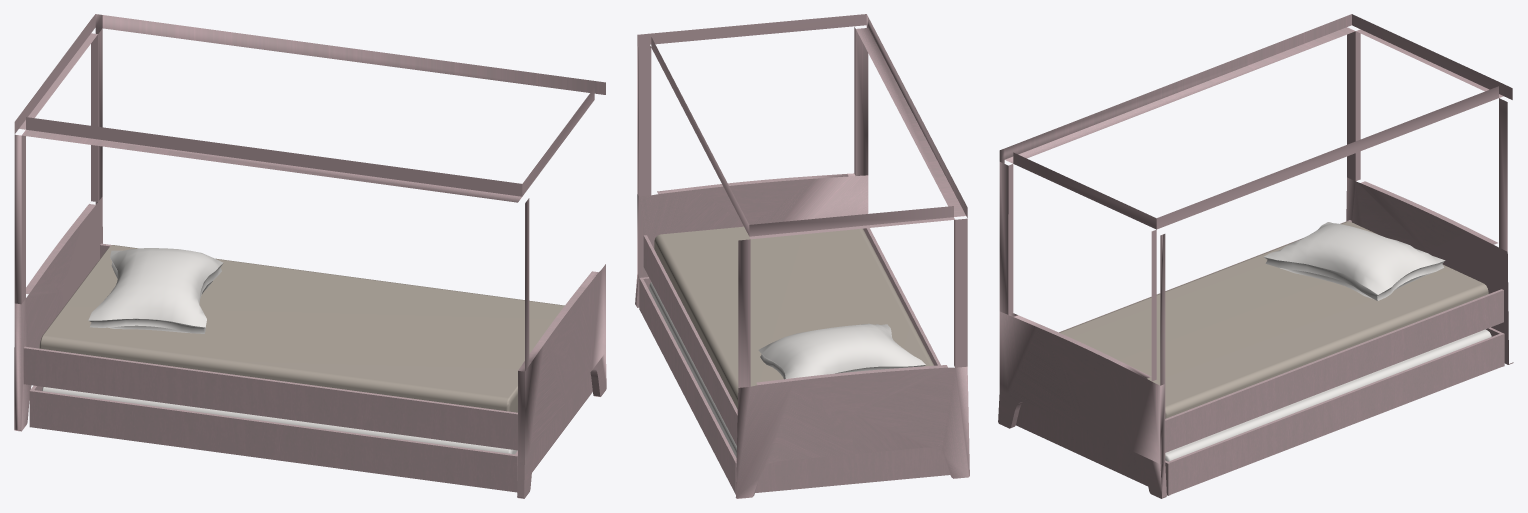
The model's file is vintage-bed_verticale_rot.gltf.
3 renders of one model, left to right at view 1: azimuth 30°, elevation 25°; view 2: azimuth 150°, elevation 25°; view 3: azimuth 270°, elevation 25°, orthographic. The views are drawn at different scales.
Parts seen in each view (by area): view 1: bed-structure, bed-mattress, divan, pillow, divan-mattress; view 2: bed-structure, bed-mattress, divan, pillow, divan-mattress; view 3: bed-structure, bed-mattress, divan, pillow, divan-mattress.
Part boxes in pixels (x1,y1,x2,y2): bed-structure: (14,14,606,498); bed-mattress: (39,245,564,412); divan: (29,373,592,492); pillow: (88,248,223,333); divan-mattress: (42,387,517,454); bed-structure: (635,14,969,498); bed-mattress: (654,226,933,408); divan: (639,277,949,494); pillow: (758,323,925,379); divan-mattress: (649,282,736,457); bed-structure: (998,14,1513,498); bed-mattress: (1059,221,1488,418); divan: (1016,327,1504,495); pillow: (1264,222,1445,300); divan-mattress: (1165,329,1491,461).
Bounding box in the file's own units: 212 × 128 × 218.
7 materials, 2 textured.
